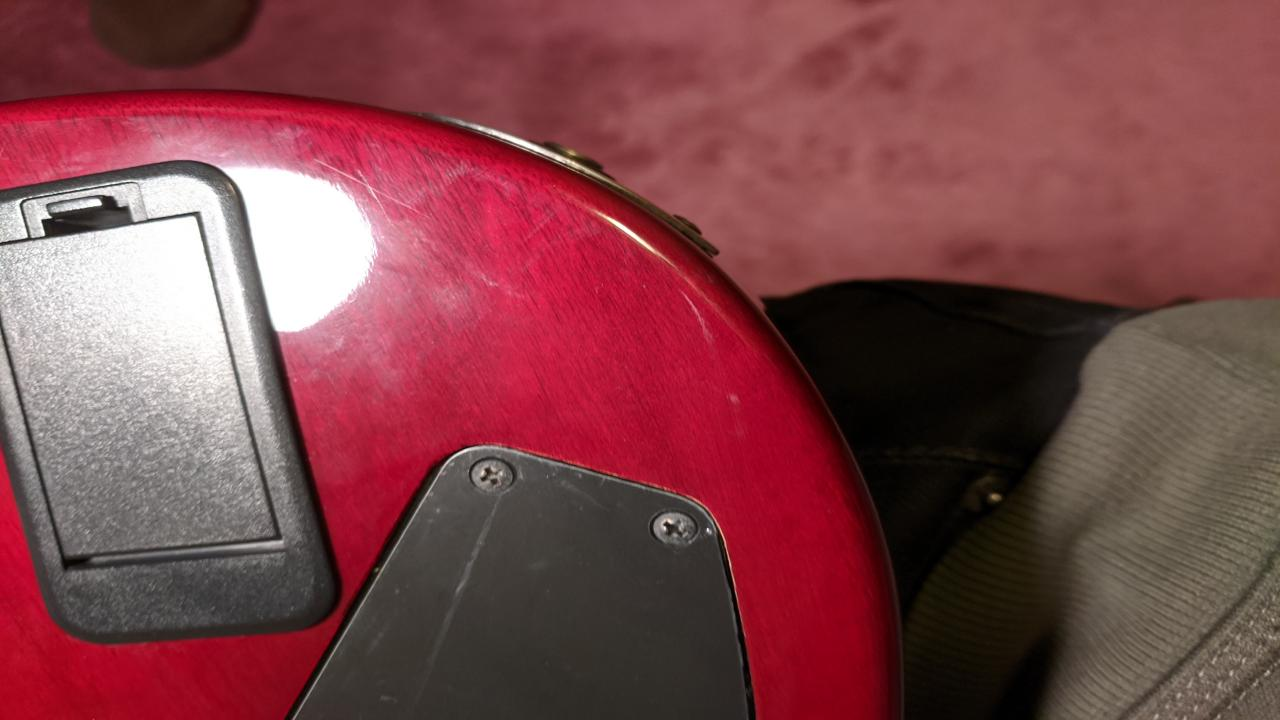CRS: (652, 511, 699, 549), (468, 456, 518, 490)
